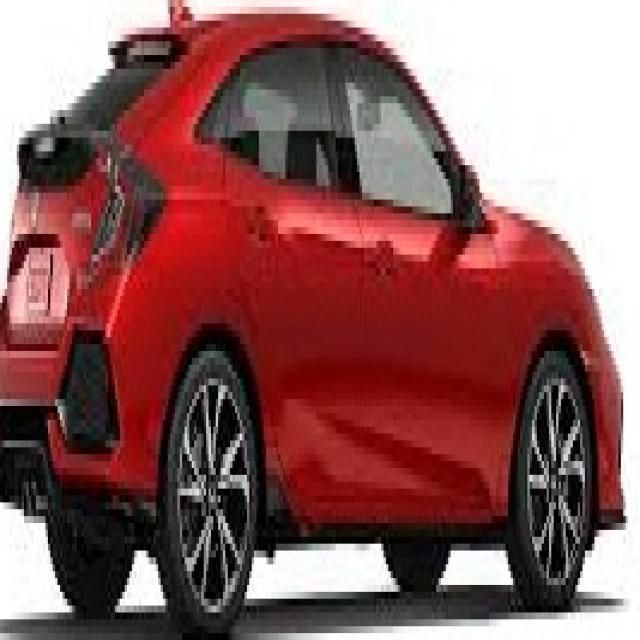red: (6, 3, 628, 585)
